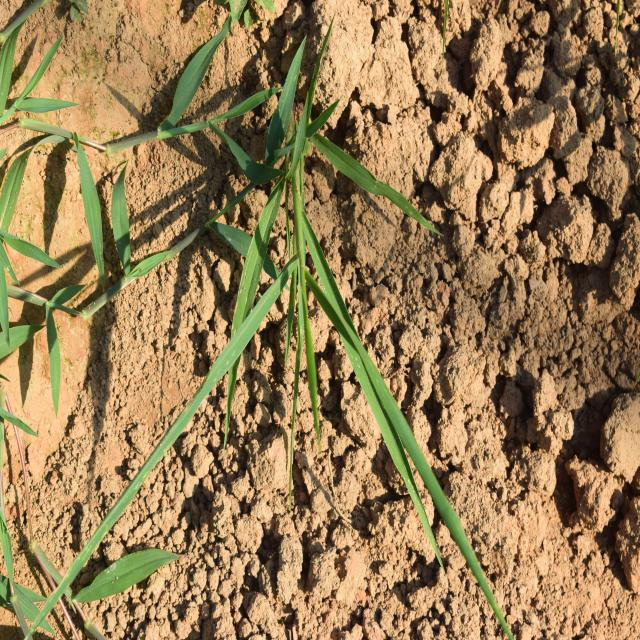green_foxtail: (195, 135, 492, 524)
